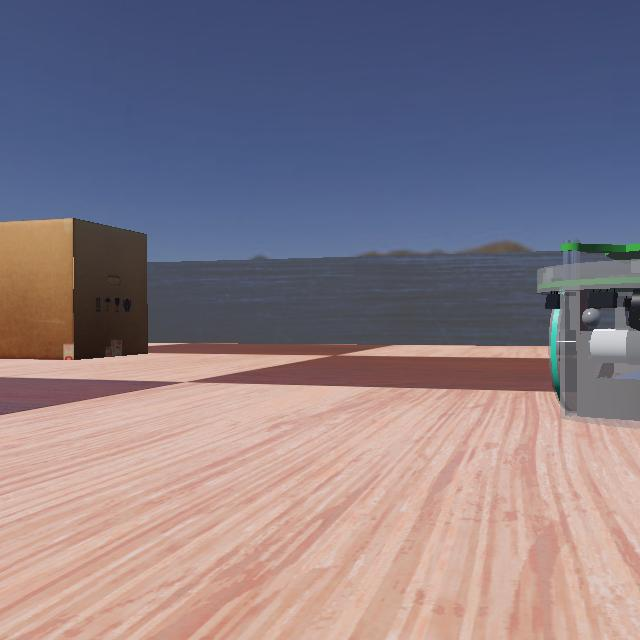cardboard-box: (0, 217, 156, 359)
